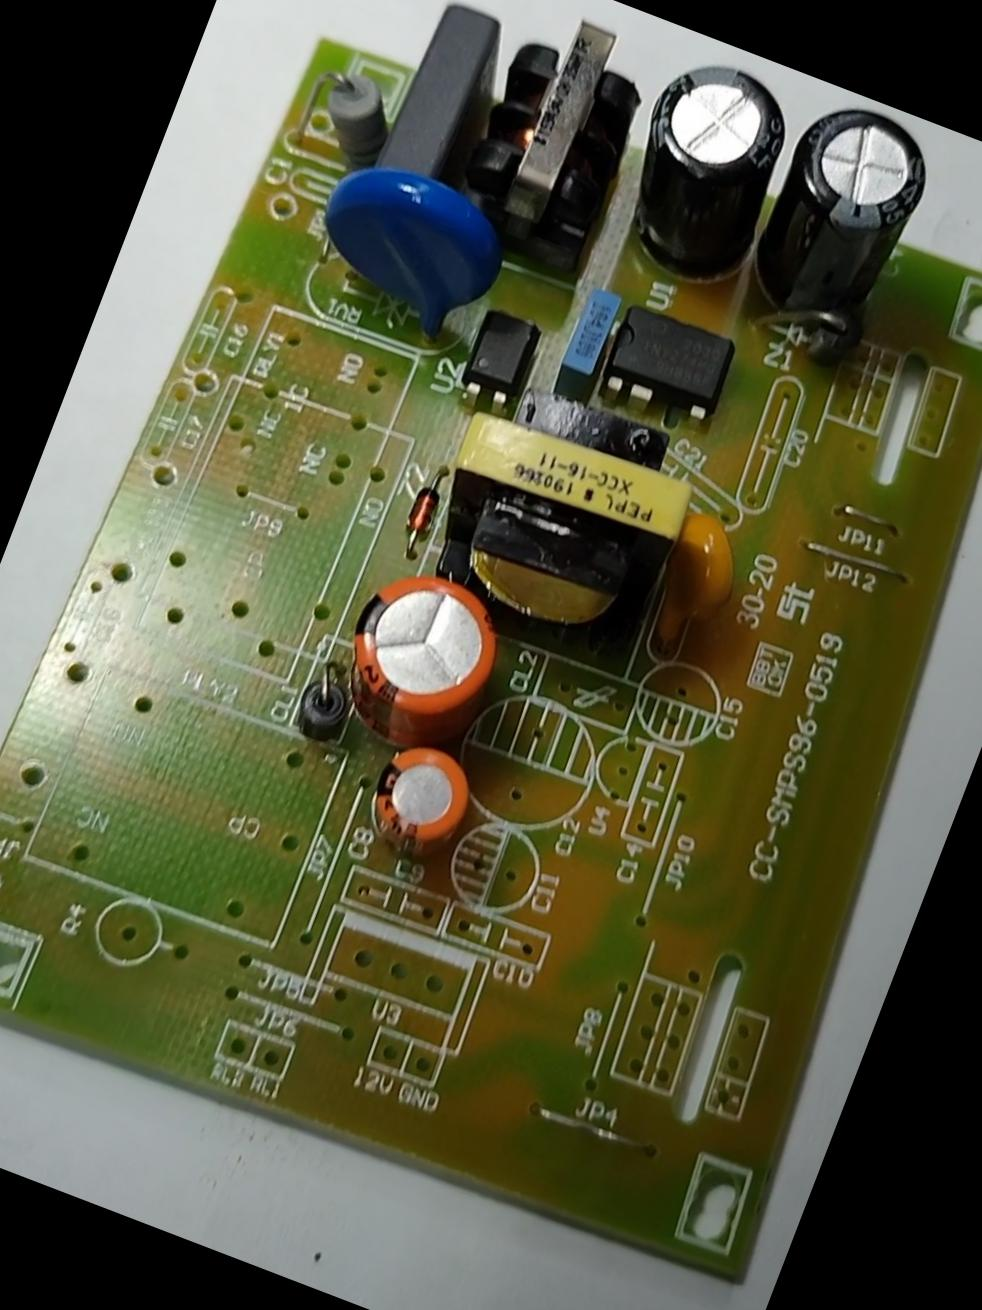Cap1: (321, 554, 520, 767)
Cap2: (351, 733, 487, 875)
Cap3: (599, 45, 810, 296)
Cap4: (742, 91, 946, 337)
MOSFET: (591, 291, 746, 430)
Mov: (298, 149, 524, 339)
Resistor: (304, 59, 403, 169)
Transformer: (400, 363, 718, 673), (444, 0, 662, 266)
